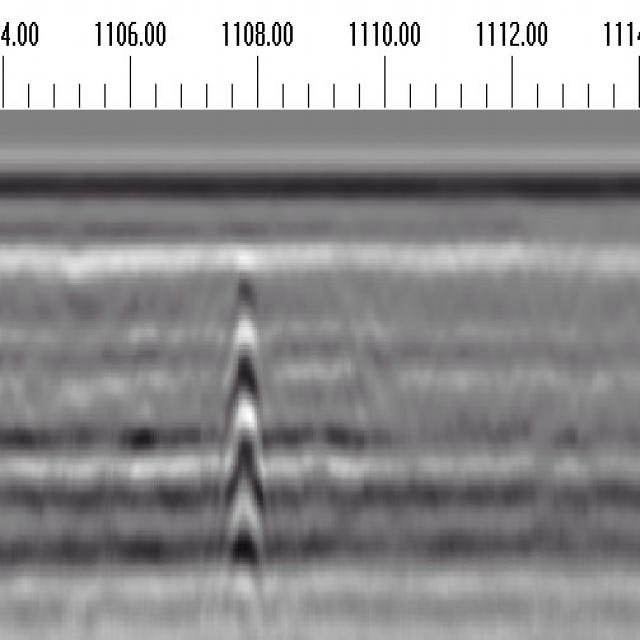crack: (214, 250, 274, 603)
